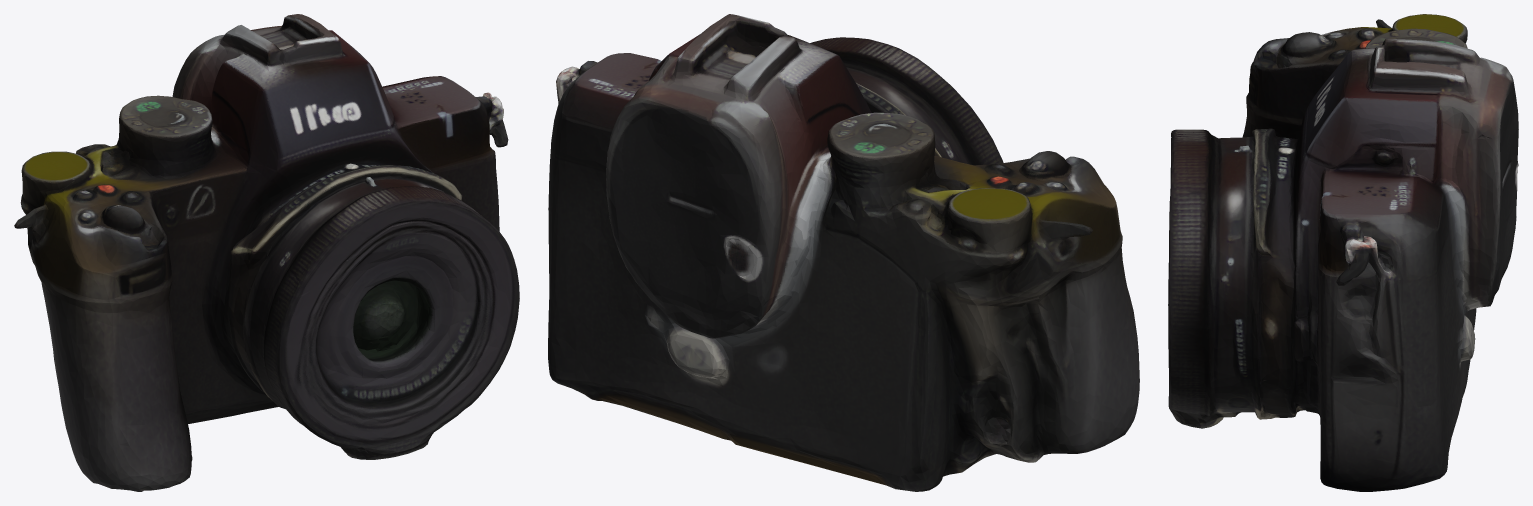
The picture shows the model from 3 angles, left to right: view 1: azimuth 30°, elevation 25°; view 2: azimuth 150°, elevation 25°; view 3: azimuth 270°, elevation 25°; orthographic projection. The views are drawn at different scales.
Parts seen in each view (by area): view 1: world; view 2: world; view 3: world.
Boxes of the visible parts, box(x1,y1,x2,y2) form: world: box(14, 14, 519, 491); world: box(548, 14, 1139, 491); world: box(1168, 14, 1518, 491).
Size of the model in its own units: 0.9897 by 0.6852 by 0.6008.
Materials: 1 (1 with a texture image).
